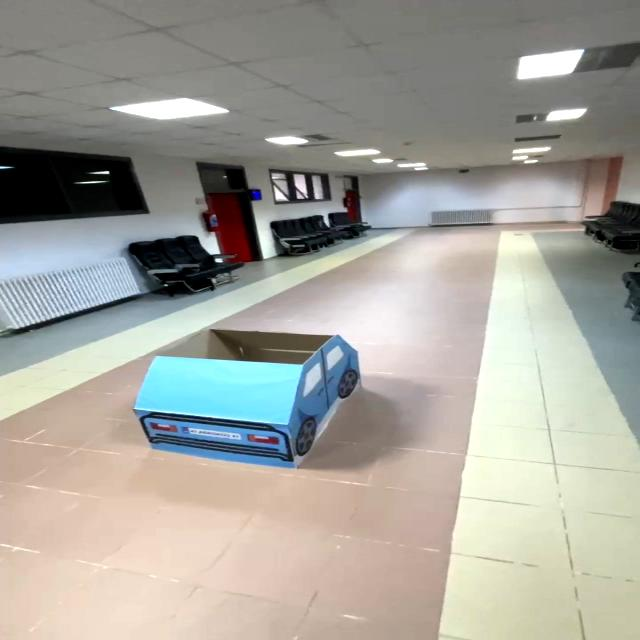blue_car: (128, 319, 364, 470)
